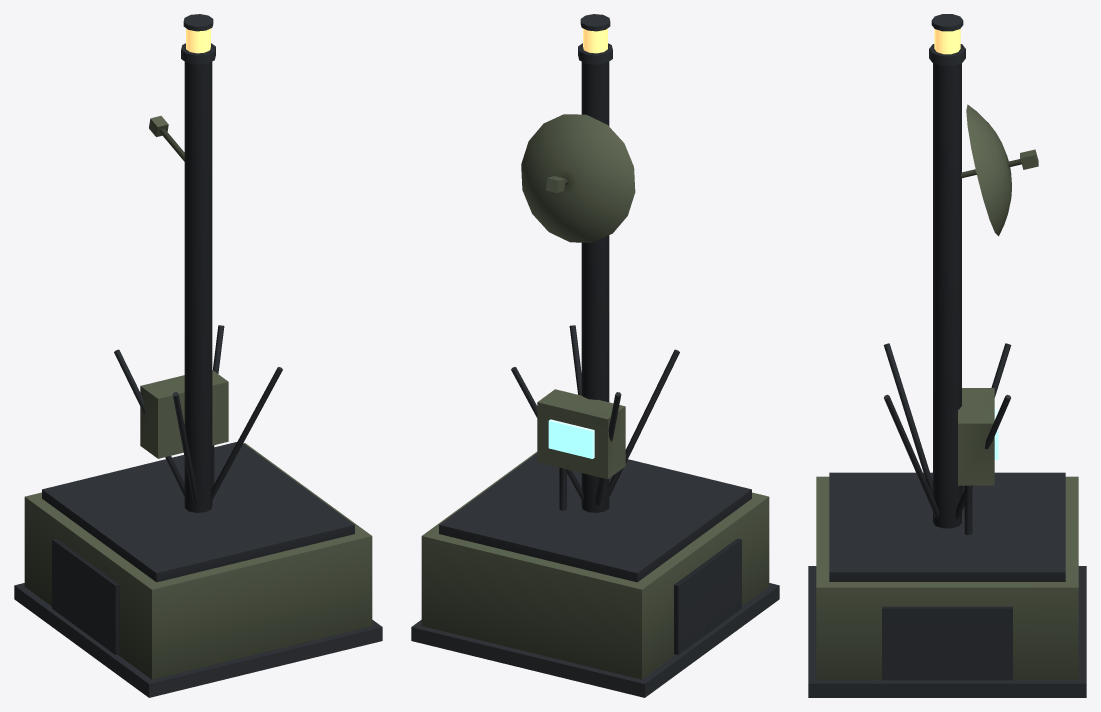
File: relay.f7cdd06b.glb
3 renders of one model, left to right at view 1: azimuth 30°, elevation 25°; view 2: azimuth 150°, elevation 25°; view 3: azimuth 270°, elevation 25°, orthographic. The views are drawn at different scales.
Visible parts, largest first — view 1: Base, Mast; view 2: Base, Dish, Mast, WeakSpot; view 3: Base, Mast, Dish, Beacon.
Boxes of the visible parts, bbox=[...] form: Base: bbox=[14, 370, 382, 697]; Mast: bbox=[114, 14, 282, 512]; Base: bbox=[411, 389, 779, 697]; Dish: bbox=[521, 114, 635, 242]; Mast: bbox=[511, 14, 679, 512]; WeakSpot: bbox=[548, 419, 594, 458]; Base: bbox=[808, 388, 1086, 697]; Mast: bbox=[883, 14, 1011, 534]; Dish: bbox=[961, 104, 1038, 236]; Beacon: bbox=[934, 29, 960, 54].
Bounding box in the file's own units: 1.06 × 2.6 × 1.06.
